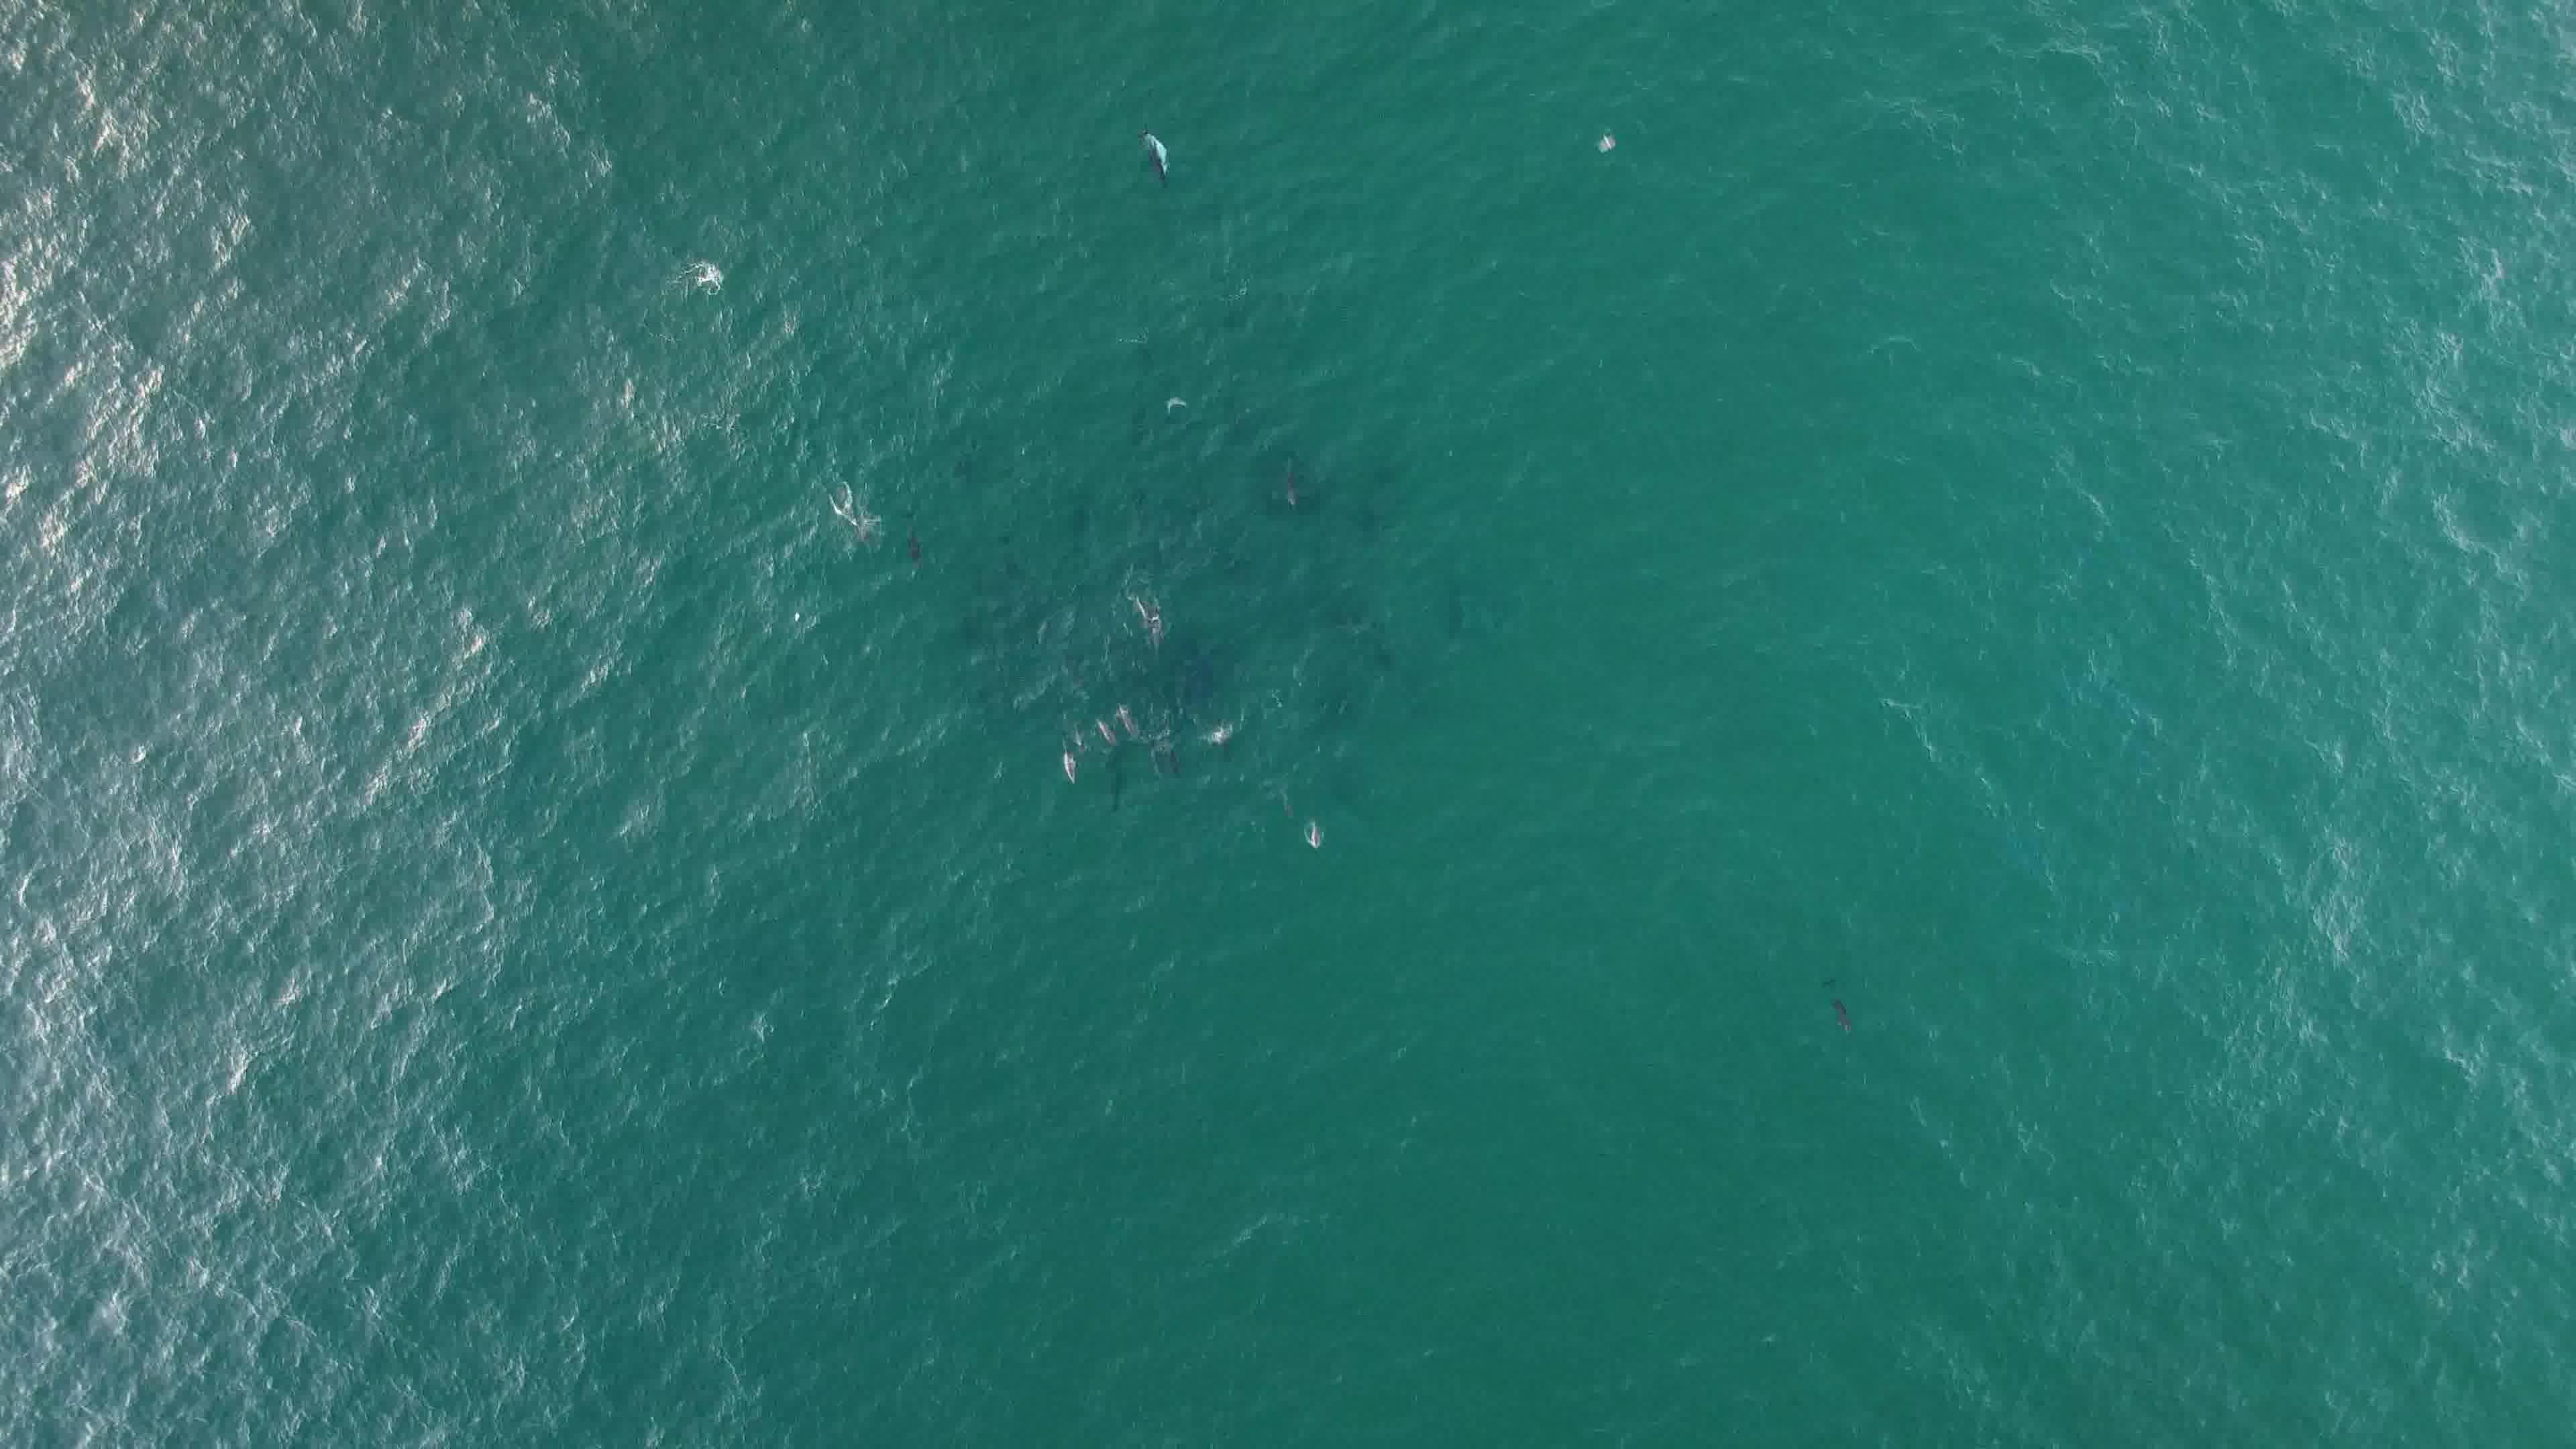dolphin: (1123, 106, 1191, 200), (1799, 961, 1859, 1044), (824, 467, 879, 557), (886, 492, 929, 580), (1261, 437, 1307, 513), (1131, 582, 1175, 658), (1054, 718, 1093, 796), (1097, 690, 1143, 743), (1297, 801, 1332, 858)
